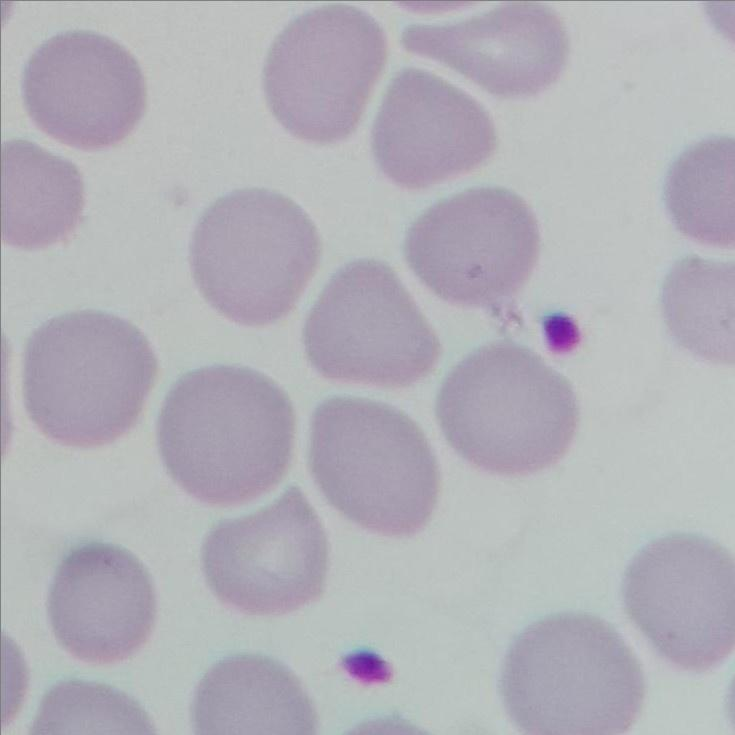Uninfected: (157, 364, 298, 507), (435, 343, 578, 477), (22, 310, 158, 449), (308, 396, 440, 537), (302, 258, 440, 388), (194, 187, 323, 324), (500, 613, 641, 733), (264, 9, 387, 144), (199, 488, 327, 615), (403, 2, 570, 98), (407, 186, 542, 302), (371, 68, 496, 190), (623, 534, 734, 671), (23, 33, 143, 153), (46, 541, 155, 660), (192, 655, 316, 735), (0, 139, 81, 251), (661, 255, 733, 367), (665, 134, 734, 247)
